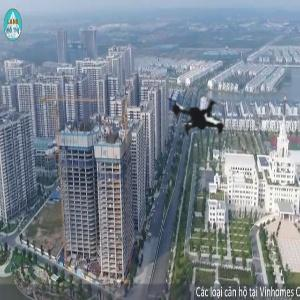drone: (121, 17, 283, 179)
